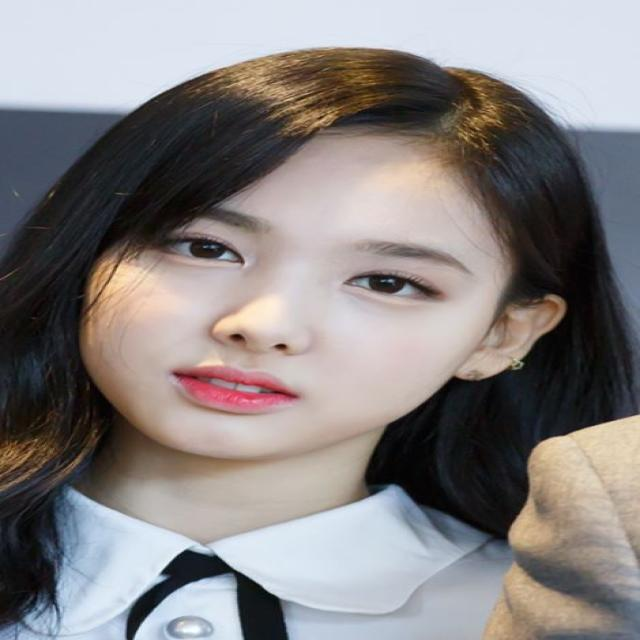face: (72, 59, 534, 456)
